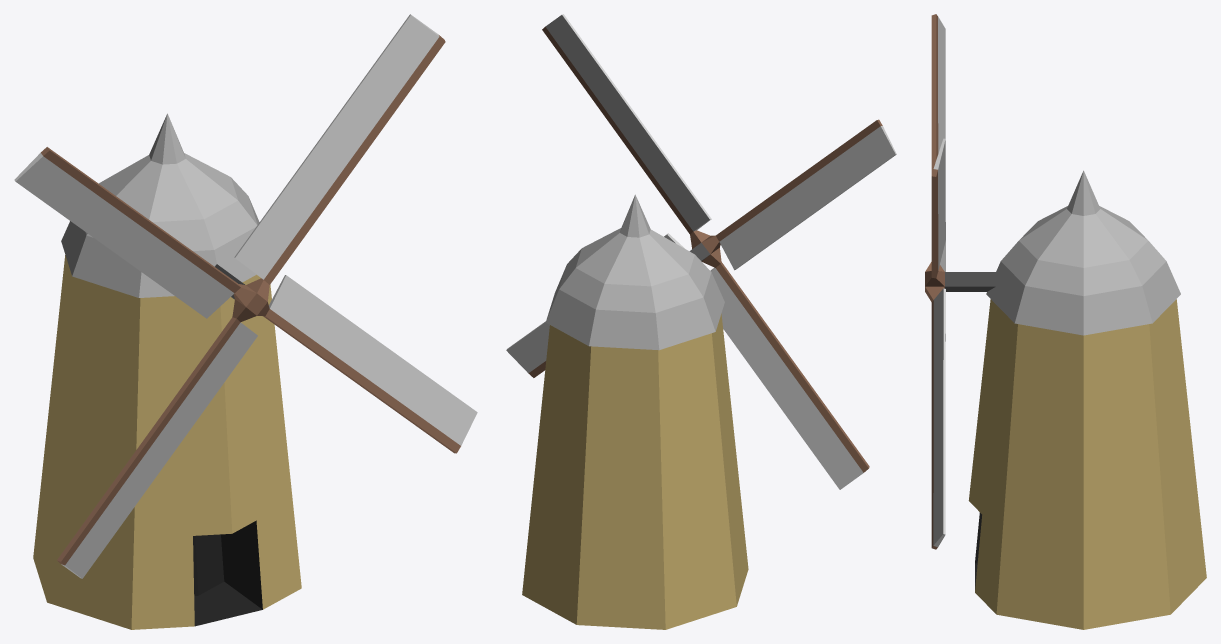
Rendered from Windmill1.fbx.
3 views of the same model, side by side, from view 1: azimuth 30°, elevation 25°; view 2: azimuth 150°, elevation 25°; view 3: azimuth 270°, elevation 25° (orthographic). The views are drawn at different scales.
Visible parts, largest first — view 1: Cylinder, Cylinder.001; view 2: Cylinder, Cylinder.001; view 3: Cylinder, Cylinder.001.
Part boxes in pixels (<box>): Cylinder: <box>33,113,301,629</box>; Cylinder.001: <box>14,14,477,578</box>; Cylinder: <box>522,194,748,629</box>; Cylinder.001: <box>506,14,896,489</box>; Cylinder: <box>968,170,1206,629</box>; Cylinder.001: <box>925,14,996,549</box>.
Bounding box in the file's own units: 13.82 × 16.45 × 8.23.
